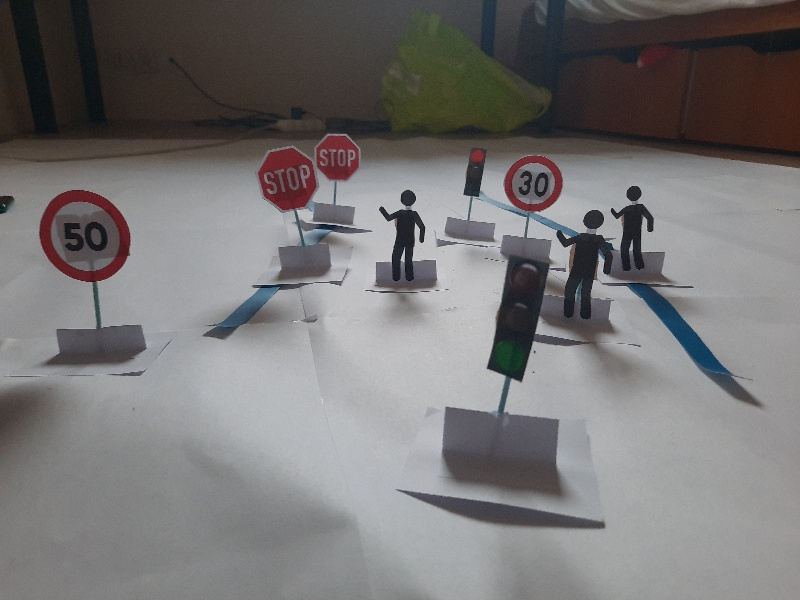Green: (487, 254, 549, 385)
Limit 30: (502, 153, 564, 213)
Limit 50: (36, 188, 134, 285)
Person: (553, 212, 613, 321), (377, 187, 426, 286), (609, 183, 657, 274)
Red: (462, 144, 487, 203)
Stop: (256, 144, 318, 213), (314, 135, 363, 181)
